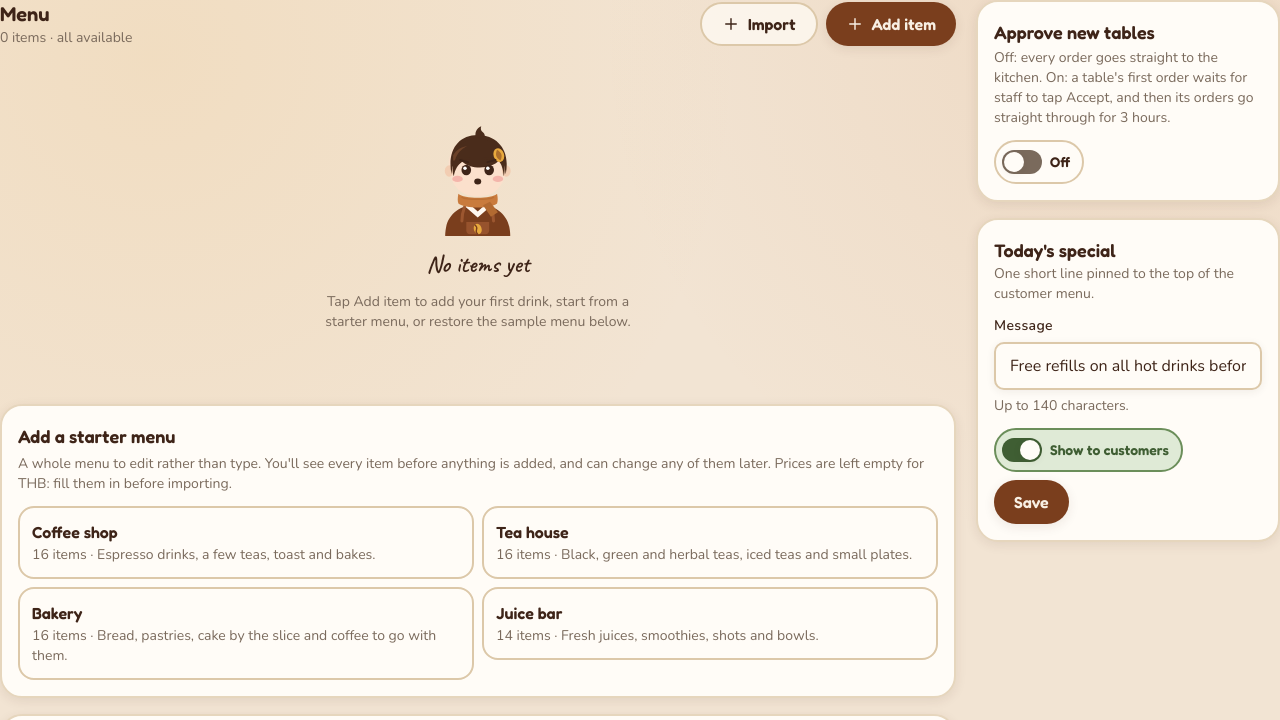
Test: starter menus › leave prices to the owner in a currency with no price level
Expected: the text "Prices are left empty for THB" is shown, [18,454,924,493]
Click the button "Bakery" at {"x": 246, "y": 633}, box [18,587,474,680]
(page scrolled)
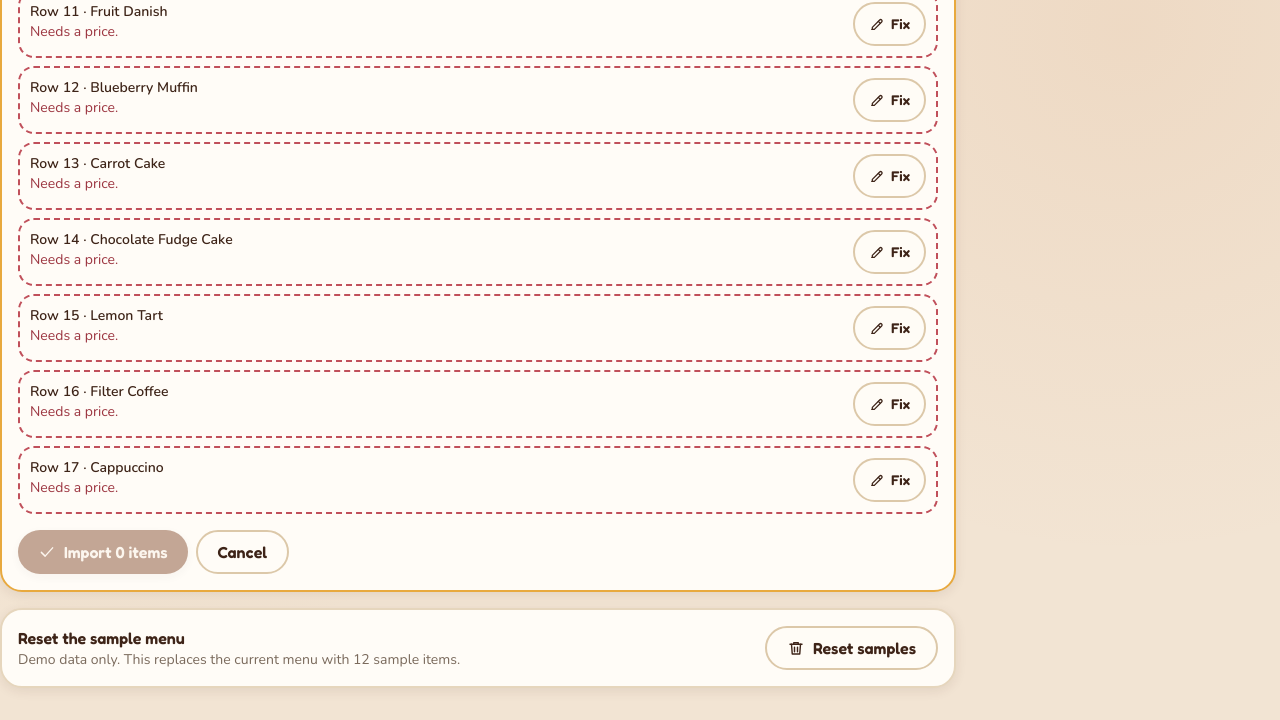
Expected: the button "Import 0 items" is disabled, [18,530,188,574]
